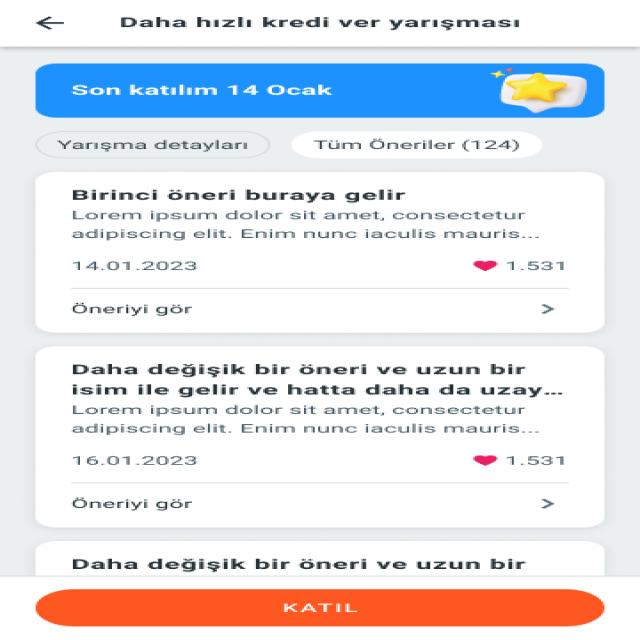QLabel: (57, 360, 565, 398), (62, 399, 545, 436), (57, 209, 554, 243), (64, 556, 532, 573), (99, 16, 524, 30), (63, 187, 409, 204), (65, 82, 332, 97), (309, 137, 522, 153), (63, 300, 201, 318), (51, 140, 254, 152), (66, 496, 198, 512), (67, 260, 201, 272), (67, 455, 200, 466), (279, 602, 361, 614), (506, 259, 566, 274), (503, 453, 566, 467)
VAppBar: (0, 1, 640, 48)
VBtn: (37, 589, 604, 627)
VCard: (31, 344, 608, 530), (34, 170, 609, 336), (37, 64, 608, 120), (35, 540, 606, 574)
VChip: (290, 130, 551, 159), (37, 130, 272, 160)
VDivider: (59, 284, 573, 292), (66, 478, 573, 486)
VFooter: (0, 577, 636, 639)
VIcon: (468, 258, 502, 273), (534, 302, 564, 317), (34, 16, 64, 30), (469, 454, 499, 467), (539, 498, 556, 509)
VImg: (491, 68, 587, 114)
